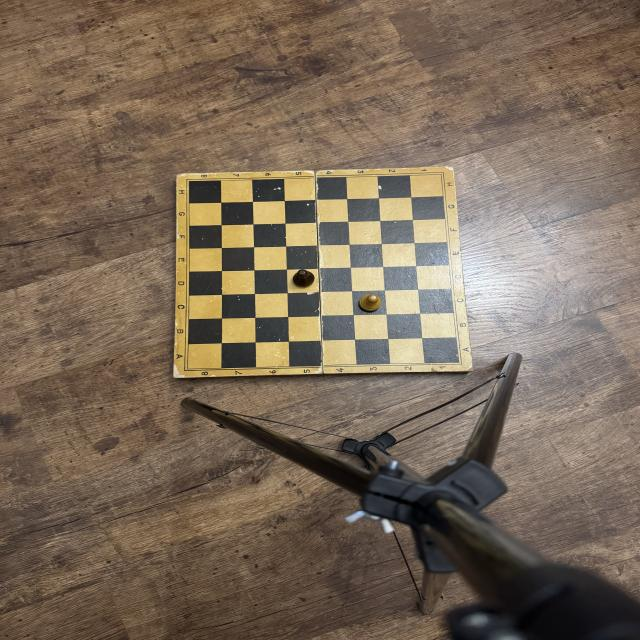black-pawn: (292, 270, 314, 288)
white-pawn: (359, 294, 381, 312)
